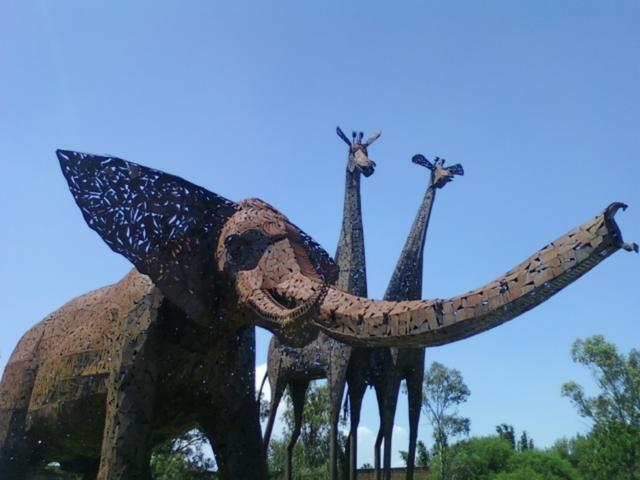elephant: (13, 128, 460, 458)
